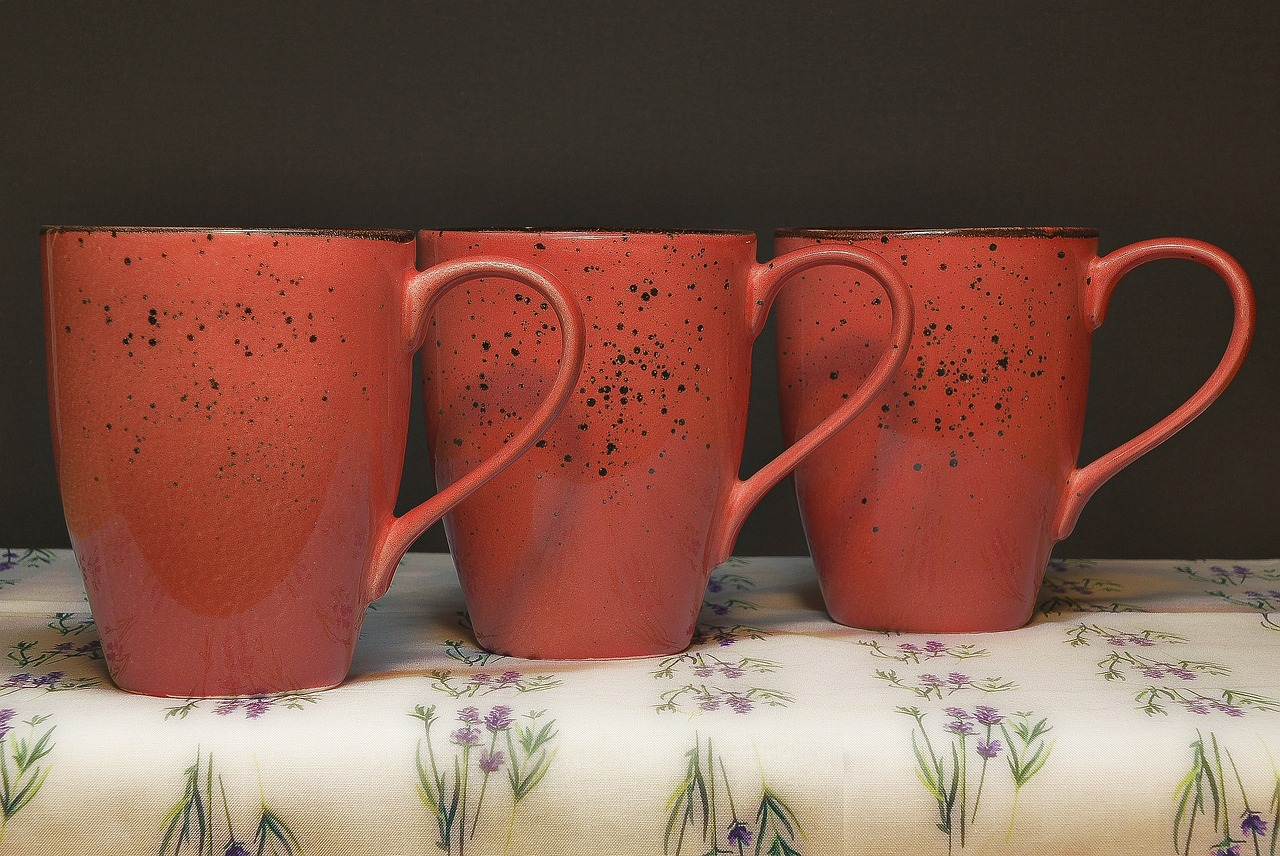mug: (23, 188, 554, 729), (398, 193, 928, 705), (763, 181, 1253, 677)
